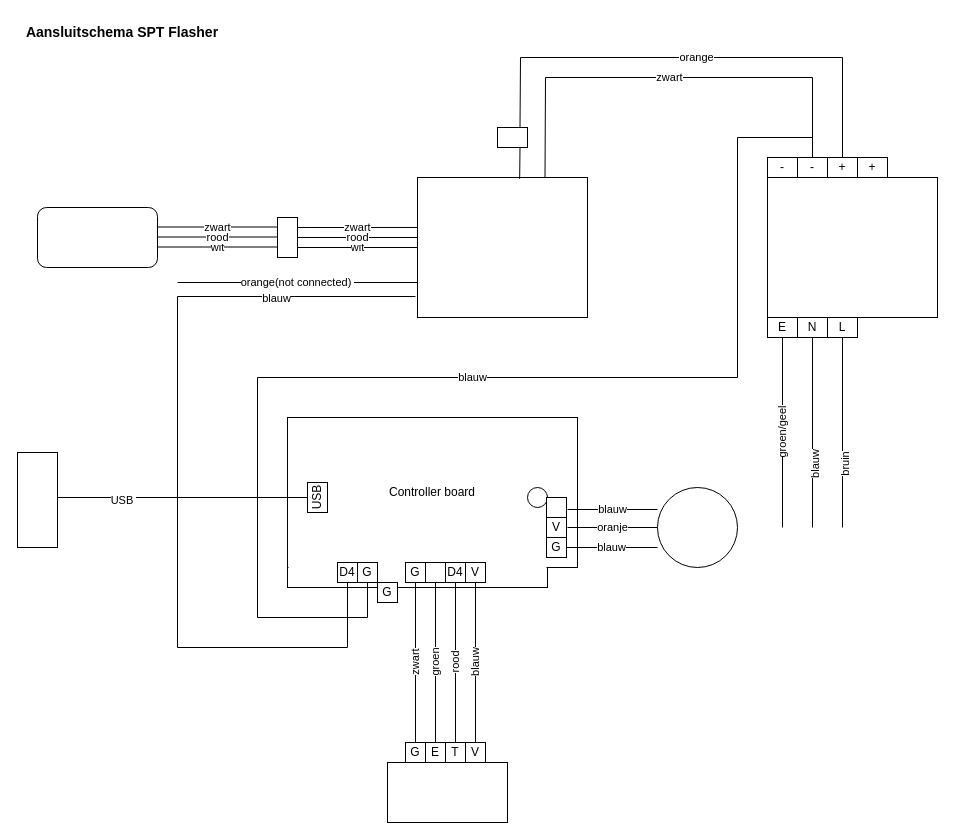
The diagram is 955 pixels wide and 840 high, and some of its shapes have lost their labels. The shapes that lost their labels are listed below. From the top down, each one's centre as x and y in pixels, then its label:
[512,137]: fuse
[97,237]: LAMP
[502,247]: 781-1228WP Single Lamp Power Supply
[852,247]: Traco
[37,500]: Phone charger
[556,507]: A0
[697,527]: POT
[435,572]: D5
[447,792]: Ultrasoon sensor
